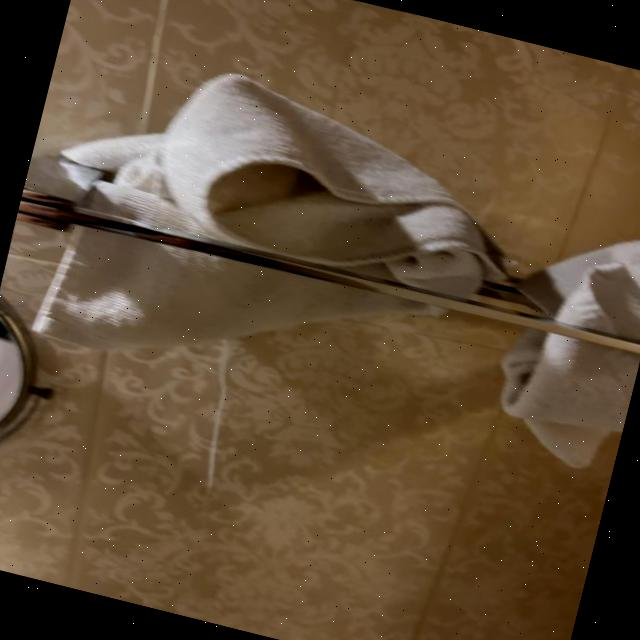Disorganized_pillow: (19, 66, 640, 478)
